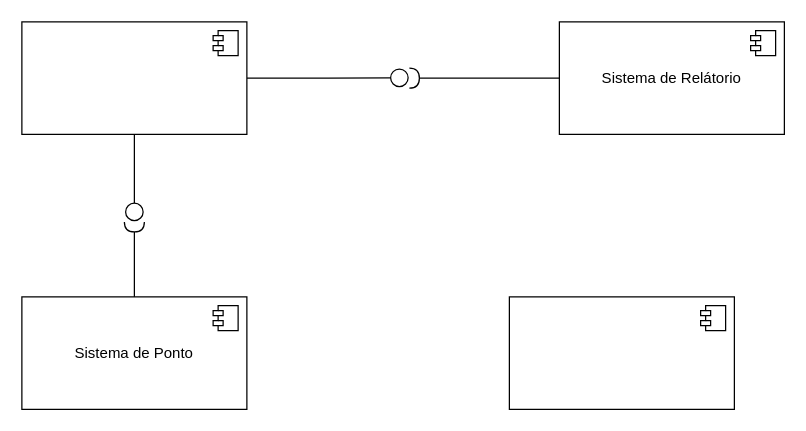
Some shapes in this 806 by 431 pixel diagram are drawn without their labels. Here are the shapes that lost their labels. From the top down, the centre of each, then its label:
At point 134,77: "API de Ponto".
At point 621,352: "Discovery Service".
